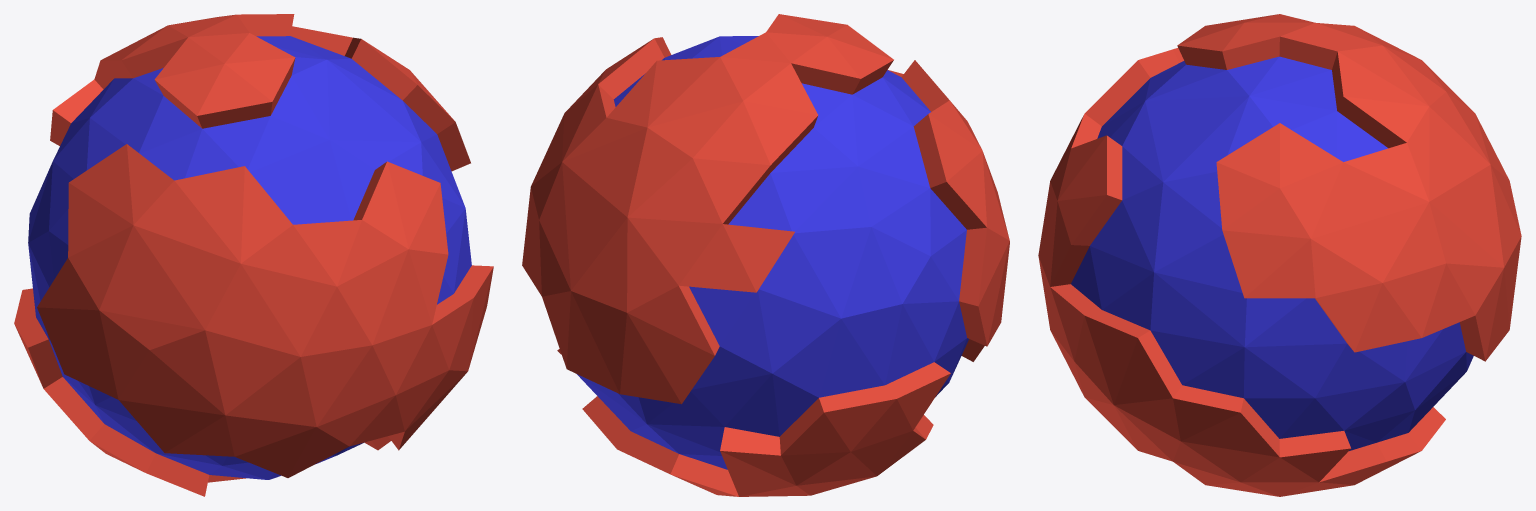
Rendered from lethimquizz.glb.
3 renders of one model, left to right at view 1: azimuth 30°, elevation 25°; view 2: azimuth 150°, elevation 25°; view 3: azimuth 270°, elevation 25°, orthographic.
Visible parts, largest first — view 1: Icosphère.001, Icosphère; view 2: Icosphère.001, Icosphère; view 3: Icosphère.001, Icosphère.
Part boxes in pixels (box(x1,y1,x2,y2)): Icosphère.001: box(14, 14, 493, 496); Icosphère: box(28, 36, 471, 479); Icosphère.001: box(522, 14, 1009, 496); Icosphère: box(577, 36, 968, 469); Icosphère.001: box(1038, 14, 1521, 496); Icosphère: box(1071, 56, 1473, 450).
Bounding box in the file's own units: 2.15 × 2.2 × 2.2.
